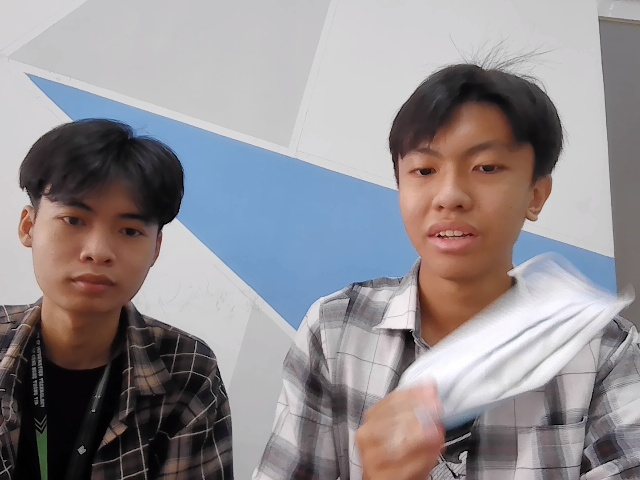human: (388, 62, 567, 283), (14, 118, 189, 321)
mask: (394, 255, 623, 428)
